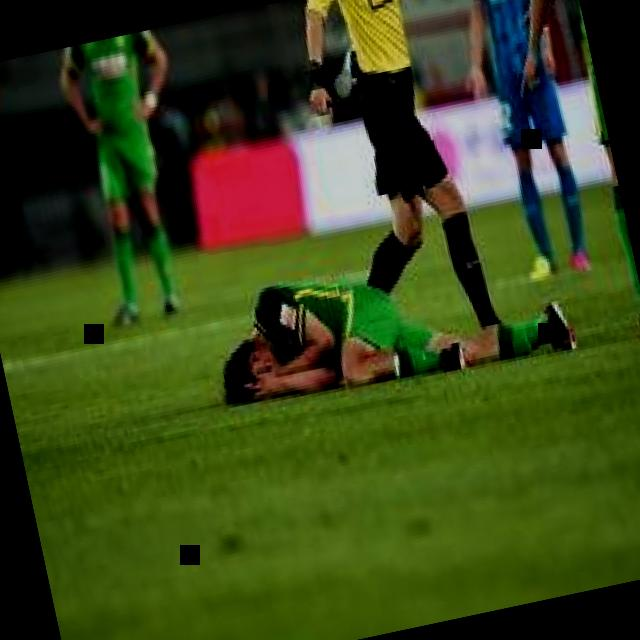Fall-Detected: (192, 202, 568, 422)
